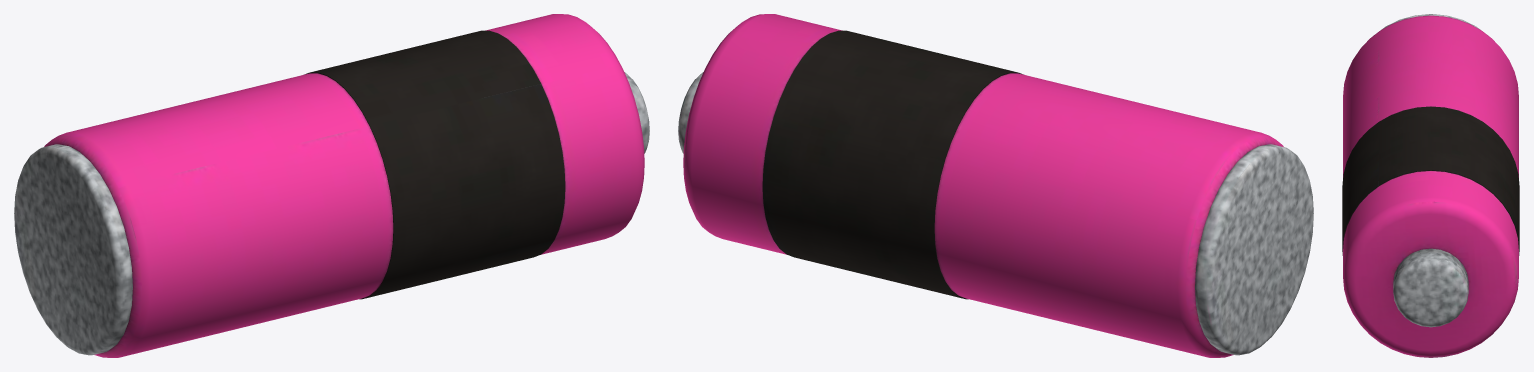
File: battery.glb
3 views of the same model, side by side, from view 1: azimuth 30°, elevation 25°; view 2: azimuth 150°, elevation 25°; view 3: azimuth 270°, elevation 25° (orthographic). The views are drawn at different scales.
Parts seen in each view (by area): view 1: battery; view 2: battery; view 3: battery.
Boxes of the visible parts, <box> form: battery: <box>14,14,649,357</box>; battery: <box>678,14,1313,357</box>; battery: <box>1342,14,1519,357</box>.
Bounding box in the file's own units: 0.394 × 0.141 × 0.141.
1 material, 1 textured.
